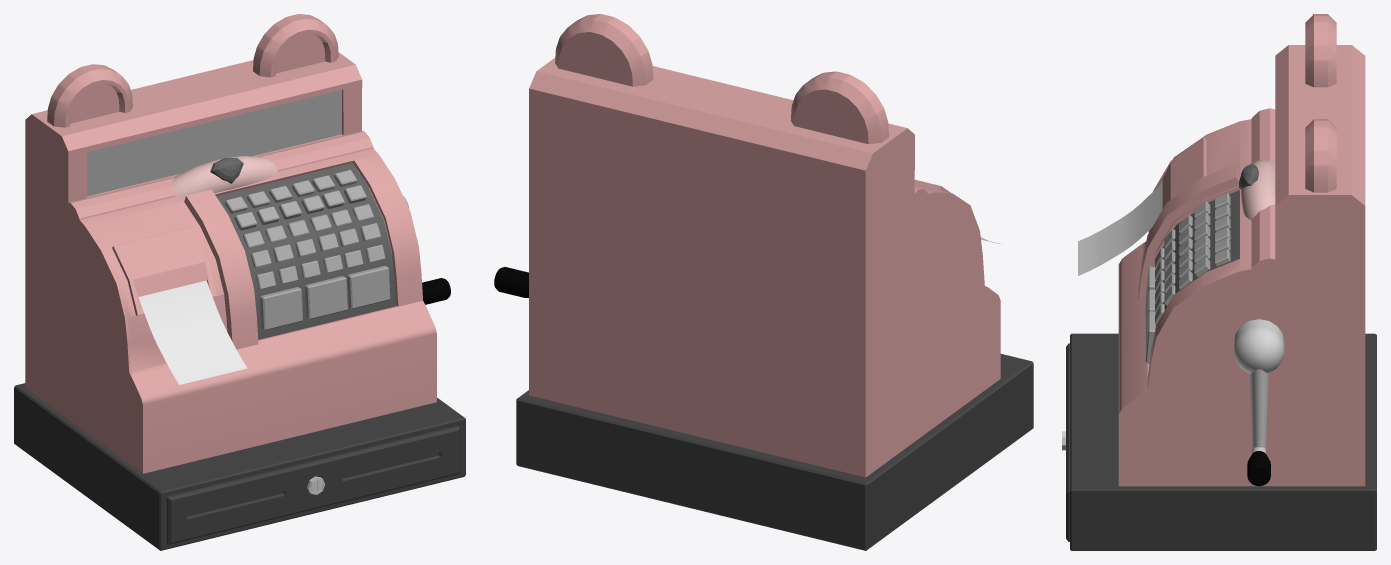
Rendered from cash_regi_v2_button.fbx.
3 views of the same model, side by side, from view 1: azimuth 30°, elevation 25°; view 2: azimuth 150°, elevation 25°; view 3: azimuth 270°, elevation 25° (orthographic). The views are drawn at different scales.
Visible parts, largest first — view 1: body1, pasted__pCube1, pasted__pCube3, board, pCube55, paper, pTorus1, pCube46, pCube47, pCube48, pCylinder5, pSphere2; view 2: body1, pasted__pCube1, pCylinder5; view 3: body1, pasted__pCube1, paper, pSphere1, pCube55, pTorus1, pCylinder3, pasted__pCube3, pCylinder5, pCube46.
Boxes of the visible parts, <box> form: body1: <box>25,14,436,473</box>; pasted__pCube1: <box>14,383,465,550</box>; pasted__pCube3: <box>167,425,459,544</box>; board: <box>87,90,341,196</box>; pCube55: <box>216,163,396,339</box>; paper: <box>138,280,247,384</box>; pTorus1: <box>172,156,277,197</box>; pCube46: <box>347,265,390,308</box>; pCube47: <box>260,287,302,330</box>; pCube48: <box>305,276,347,319</box>; pCylinder5: <box>422,278,450,304</box>; pSphere2: <box>210,158,243,183</box>; body1: <box>529,14,1000,477</box>; pasted__pCube1: <box>516,354,1033,550</box>; pCylinder5: <box>494,267,528,297</box>; body1: <box>1118,14,1365,486</box>; pasted__pCube1: <box>1070,333,1376,550</box>; paper: <box>1078,182,1162,275</box>; pSphere1: <box>1233,319,1284,373</box>; pCube55: <box>1156,190,1239,325</box>; pTorus1: <box>1240,159,1275,220</box>; pCylinder3: <box>1249,369,1268,448</box>; pasted__pCube3: <box>1066,343,1069,541</box>; pCylinder5: <box>1247,451,1270,486</box>; pCube46: <box>1145,311,1155,363</box>.
Size of the model in its own units: 6.75 by 6.57 by 4.67.
